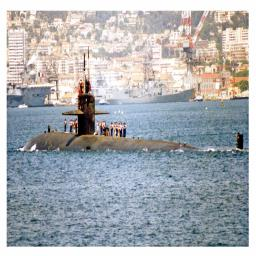submarine: (12, 53, 246, 152)
